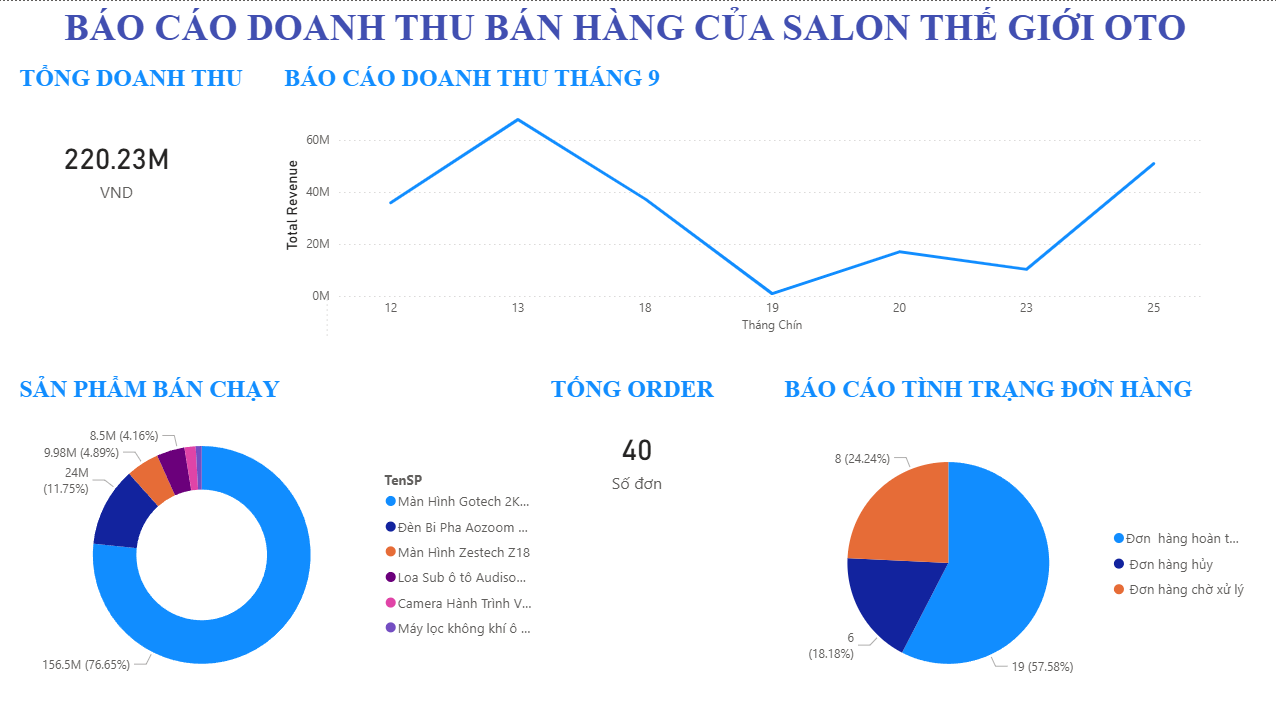

The page's visual inventory and layout, read from the dashboard file:
{"tool":"powerbi","page":{"name":"Bán hàng","canvas":[1280,720],"ordinal":0},"visuals":[{"type":"lineChart","fields":{"Y":["chitietdondathang.Total Revenue"],"Category":["hoadon.CreatedAt.Biến động.Phân cấp ngày tháng.Tháng","hoadon.CreatedAt.Biến động.Phân cấp ngày tháng.Ngày"]},"box":[281.3,79.5,930.6,280],"z":0},{"type":"card","fields":{"Values":["chitietdondathang.Total Revenue"]},"box":[16.2,93,204.8,148.2],"z":1000},{"type":"donutChart","fields":{"Category":["chitiethoadon.TenSP"],"Y":["chitiethoadon.top"]},"box":[16.2,370.6,532.3,349],"z":2000},{"type":"textbox","box":[281.3,58.7,909.8,46.5],"z":3000},{"type":"textbox","box":[61.1,0,1150.7,58.7],"z":4000},{"type":"textbox","box":[16.2,59.3,243.9,47.2],"z":5000},{"type":"textbox","box":[16.2,370.6,308.6,48.5],"z":6000},{"type":"card","fields":{"Values":["dondathang.Total Orders"]},"box":[547.8,406,183.4,102.7],"z":7000},{"type":"textbox","box":[547.8,370.5,183.4,48.9],"z":8000},{"type":"pieChart","fields":{"Y":["dondathang.Cancelled Orders","dondathang.Completed Orders","dondathang.Pending Orders"]},"box":[781.4,386.4,480.6,332.6],"z":9000},{"type":"textbox","box":[548,509,183,211],"z":10000},{"type":"textbox","box":[781.4,370.5,480.6,72.1],"z":11000},{"type":"textbox","box":[612.6,337.5,299.6,33],"z":12000}]}

Visuals, with their boxes in screenshot pixels (x1, y1, x2, y2), scaled from the page's 1280x720 canvas onto the 1276x721 screenshot:
lineChart - chitietdondathang.Total Revenue x hoadon.CreatedAt.Biến động.Phân cấp ngày tháng.Tháng: crop(280, 80, 1208, 360)
card - chitietdondathang.Total Revenue: crop(16, 93, 220, 242)
donutChart - chitiethoadon.TenSP x chitiethoadon.top: crop(16, 371, 547, 720)
textbox: crop(280, 59, 1187, 105)
textbox: crop(61, 0, 1208, 59)
textbox: crop(16, 59, 259, 107)
textbox: crop(16, 371, 324, 420)
card - dondathang.Total Orders: crop(546, 407, 729, 509)
textbox: crop(546, 371, 729, 420)
pieChart - dondathang.Cancelled Orders x dondathang.Completed Orders: crop(779, 387, 1258, 720)
textbox: crop(546, 510, 729, 720)
textbox: crop(779, 371, 1258, 443)
textbox: crop(611, 338, 909, 371)
